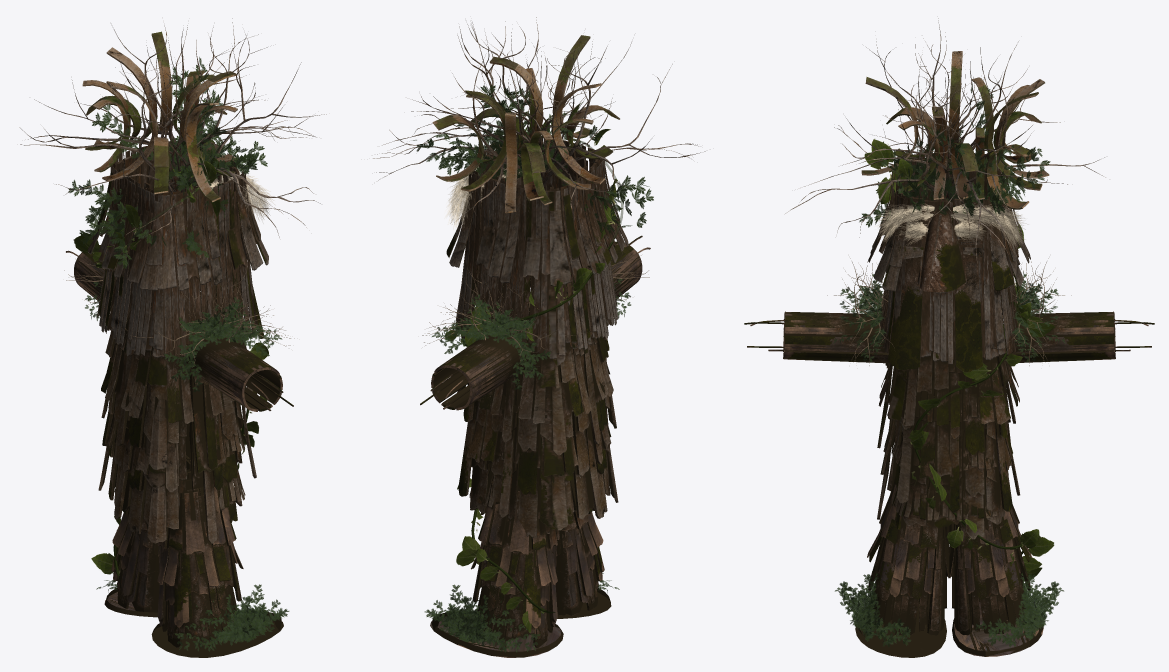
Rendered from wood_man.glb.
3 views of the same model, side by side, from view 1: azimuth 30°, elevation 25°; view 2: azimuth 150°, elevation 25°; view 3: azimuth 270°, elevation 25° (orthographic). The views are drawn at different scales.
Parts seen in each view (by area): view 1: BODY, GREENS, eyebrows; view 2: BODY, GREENS, eyebrows; view 3: BODY, GREENS, eyebrows.
Part boxes in pixels (x1,y1,x2,y2): BODY: (19, 18, 326, 657); GREENS: (64, 57, 294, 651); eyebrows: (191, 169, 274, 222); BODY: (373, 17, 705, 657); GREENS: (413, 85, 653, 652); eyebrows: (446, 166, 519, 228); BODY: (744, 18, 1154, 657); GREENS: (826, 82, 1072, 647); eyebrows: (875, 203, 1028, 252).
Size of the model in its own units: 2.01 by 3.8 by 2.43.
Materials: 6 (6 with a texture image).
